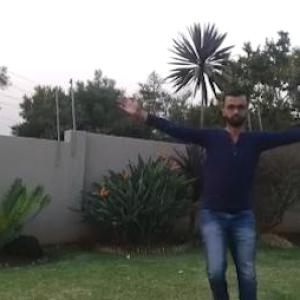takeoff: (121, 87, 298, 299)
